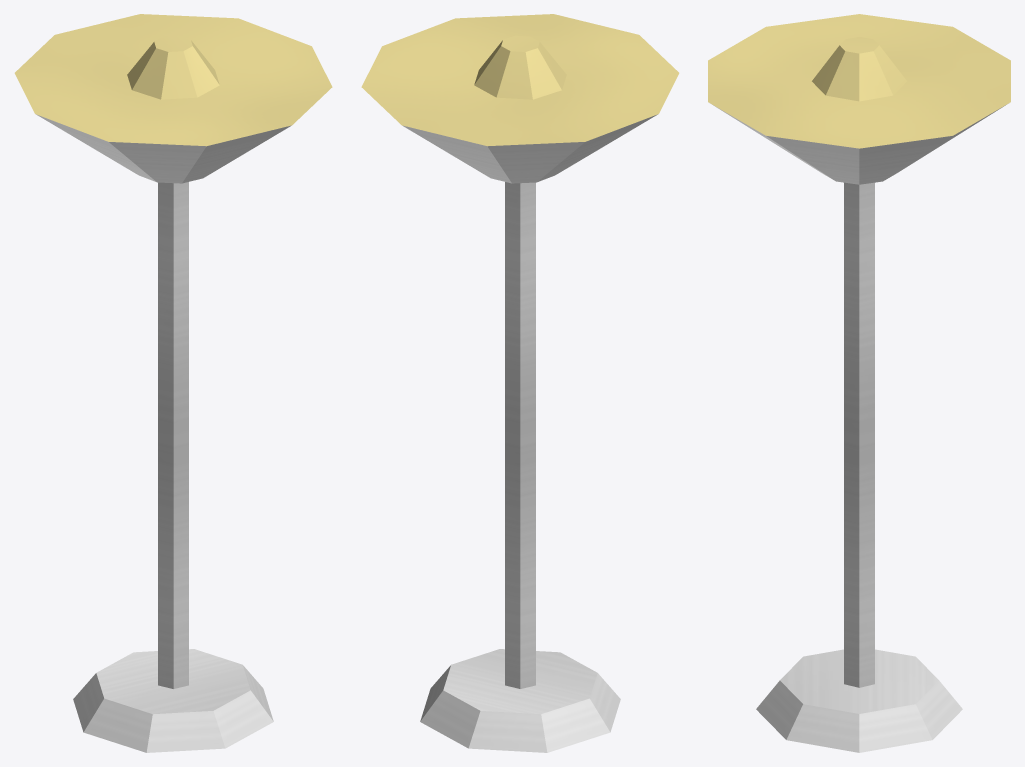
File: sun_lamp.obj
3 renders of one model, left to right at view 1: azimuth 30°, elevation 25°; view 2: azimuth 150°, elevation 25°; view 3: azimuth 270°, elevation 25°, orthographic.
Parts seen in each view (by area): view 1: sun_lamp; view 2: sun_lamp; view 3: sun_lamp.
Boxes of the visible parts, box(x1,y1,x2,y2) form: sun_lamp: box(14, 14, 332, 752); sun_lamp: box(361, 14, 679, 752); sun_lamp: box(708, 14, 1010, 752).
Bounding box in the file's own units: 0.8 × 1.84 × 0.7608.
